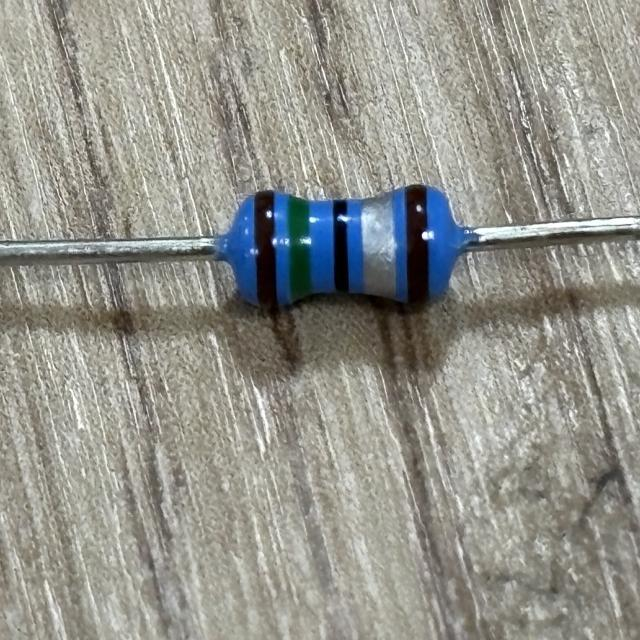resistor: (236, 179, 457, 318)
